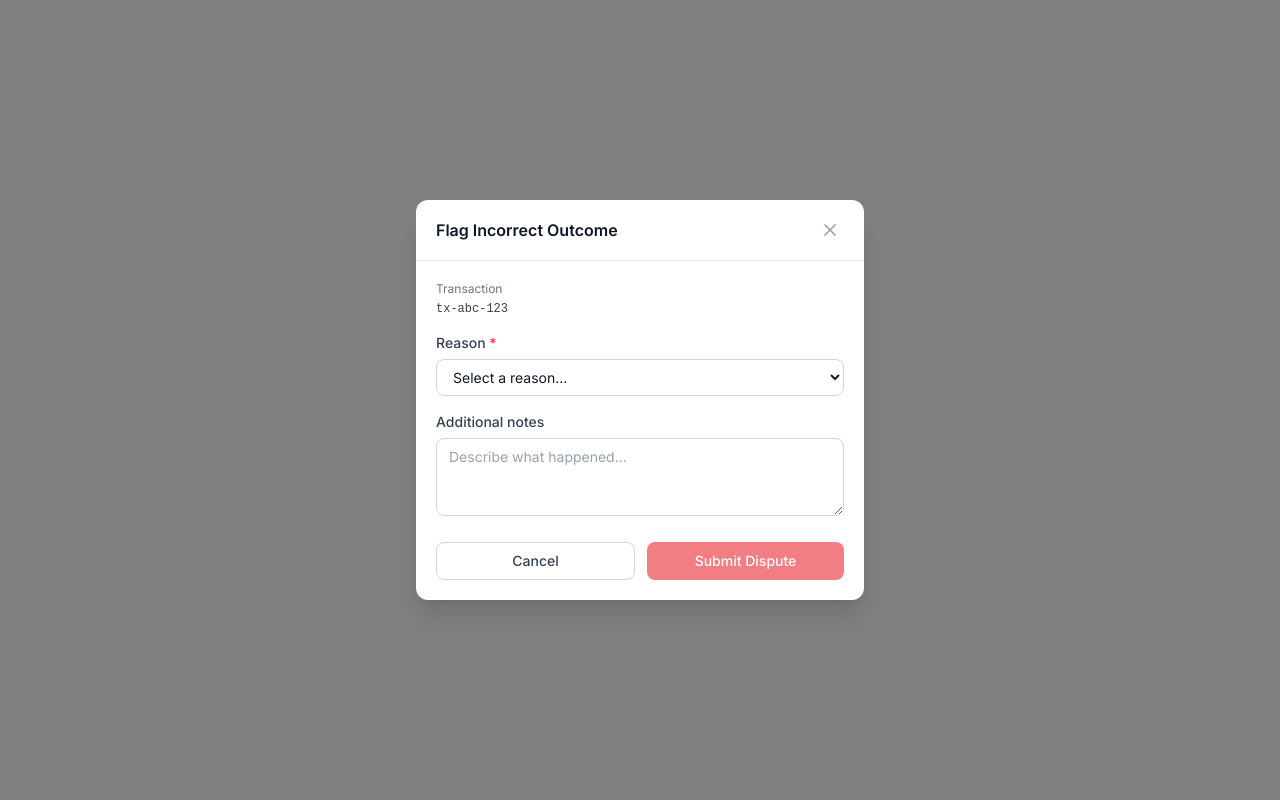
Test: DisputeModal › shows error message on submission failure
Select "Unreasonable delay" in the dropdown. click: {"x": 640, "y": 378}
box: x1=436 y1=359 x2=844 y2=396
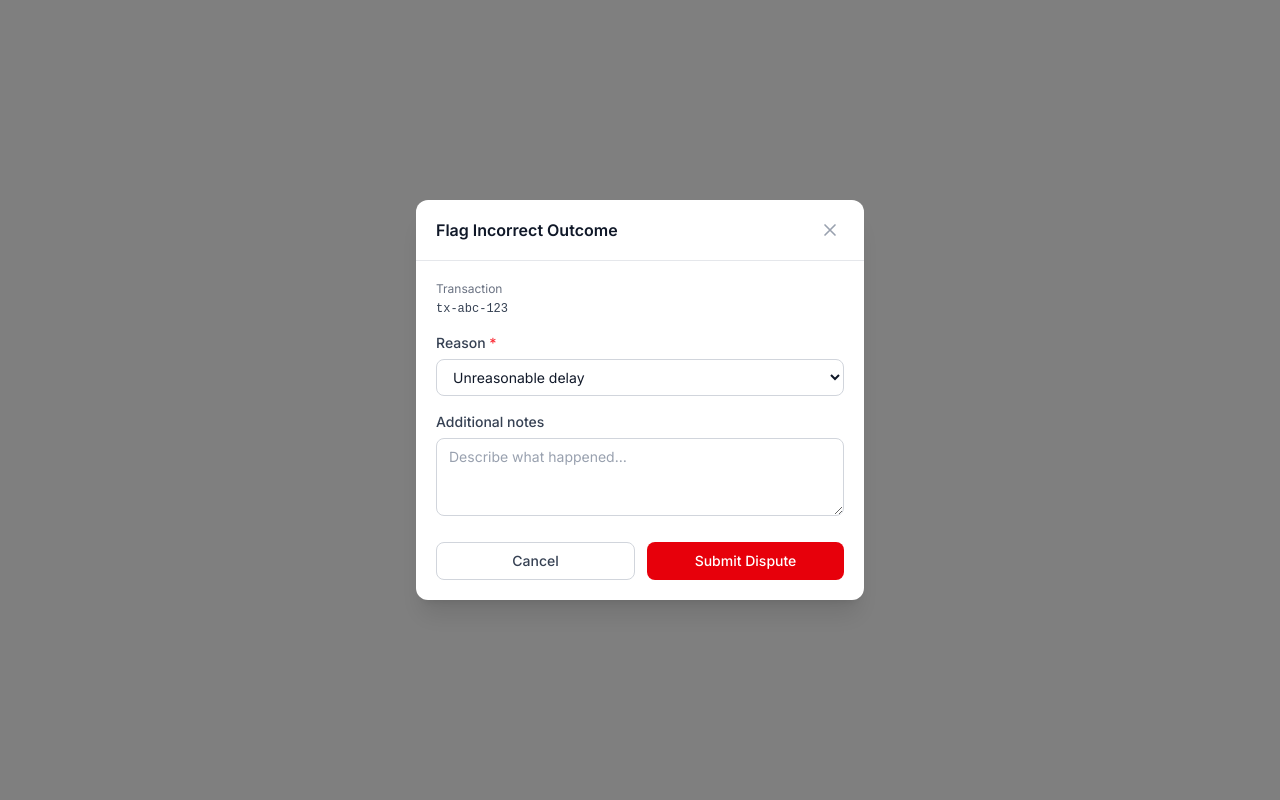
Click the button "Submit Dispute". click: {"x": 746, "y": 561}
box: x1=647 y1=542 x2=844 y2=580
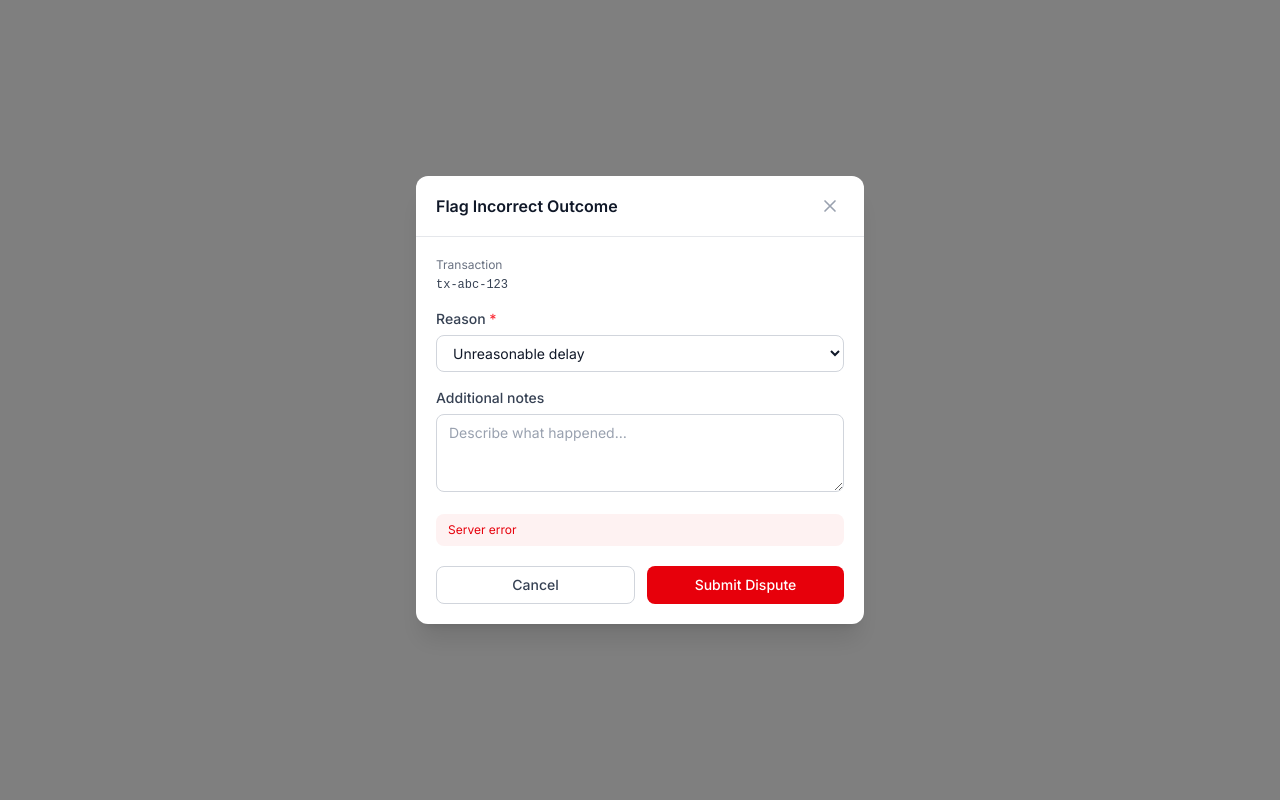
Check: the text "Server error" is shown, box x1=436 y1=514 x2=844 y2=546
